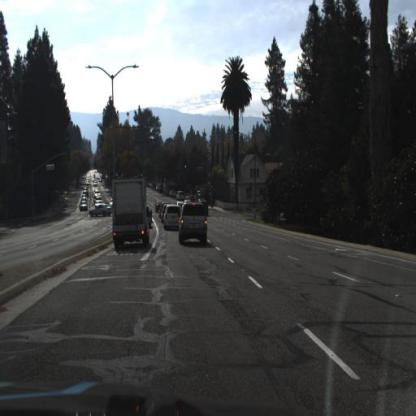car: (179, 200, 210, 245), (163, 206, 183, 233), (88, 203, 113, 220), (199, 196, 211, 216), (176, 189, 186, 200), (170, 188, 177, 199), (110, 198, 115, 208)
truck: (111, 175, 150, 250)
